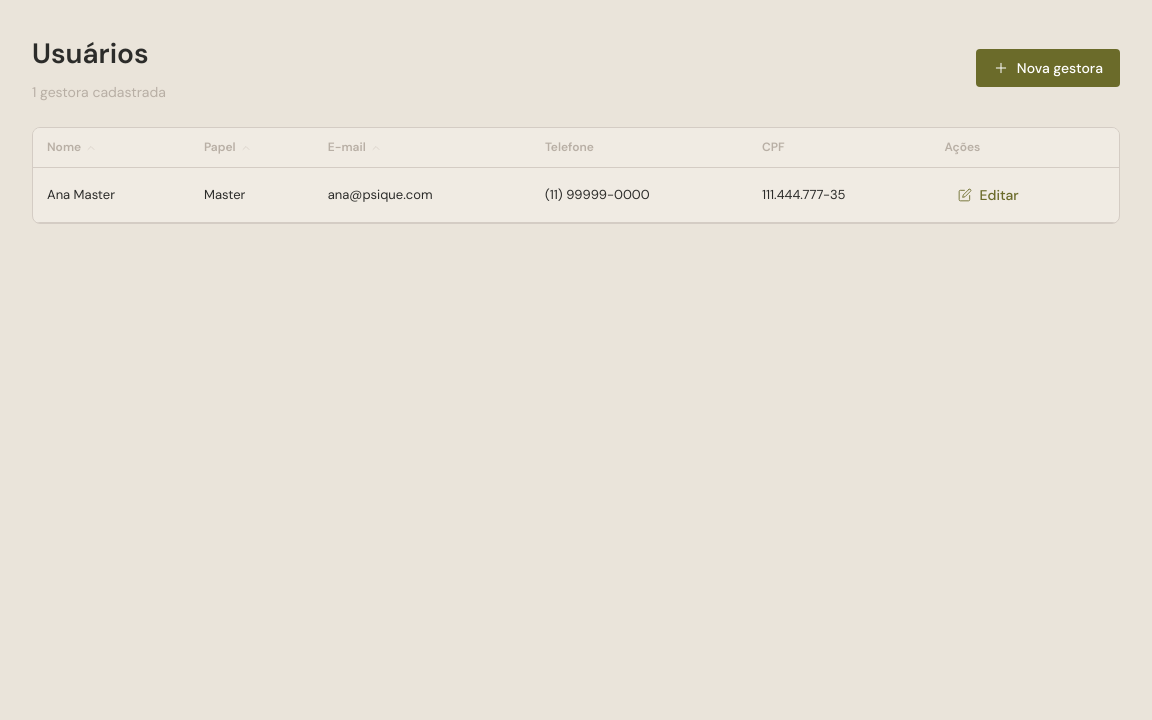
Scenario: Usuarios › caso de erro: falha ao editar exibe toast sem corromper a lista
The width and height of the screenshot is (1152, 720).
Click the button "Editar".
click(988, 195)  # box [944,178,1032,212]
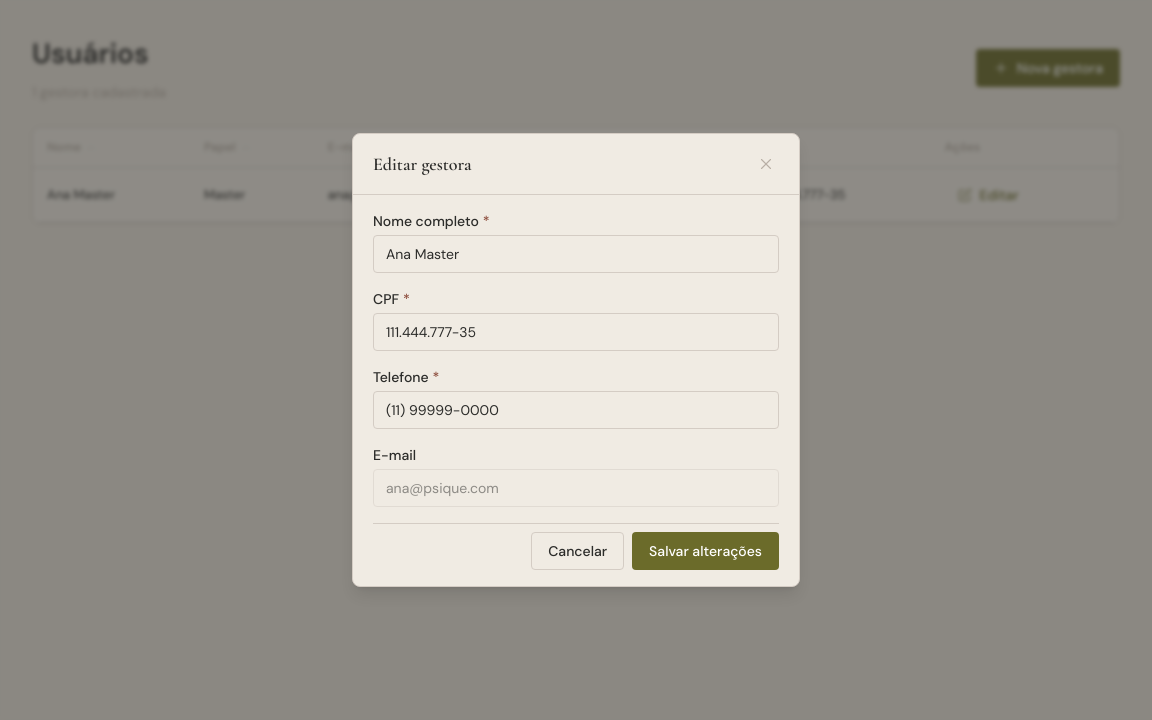
Click the button "Salvar alterações".
click(706, 551)  # box [632,532,779,570]
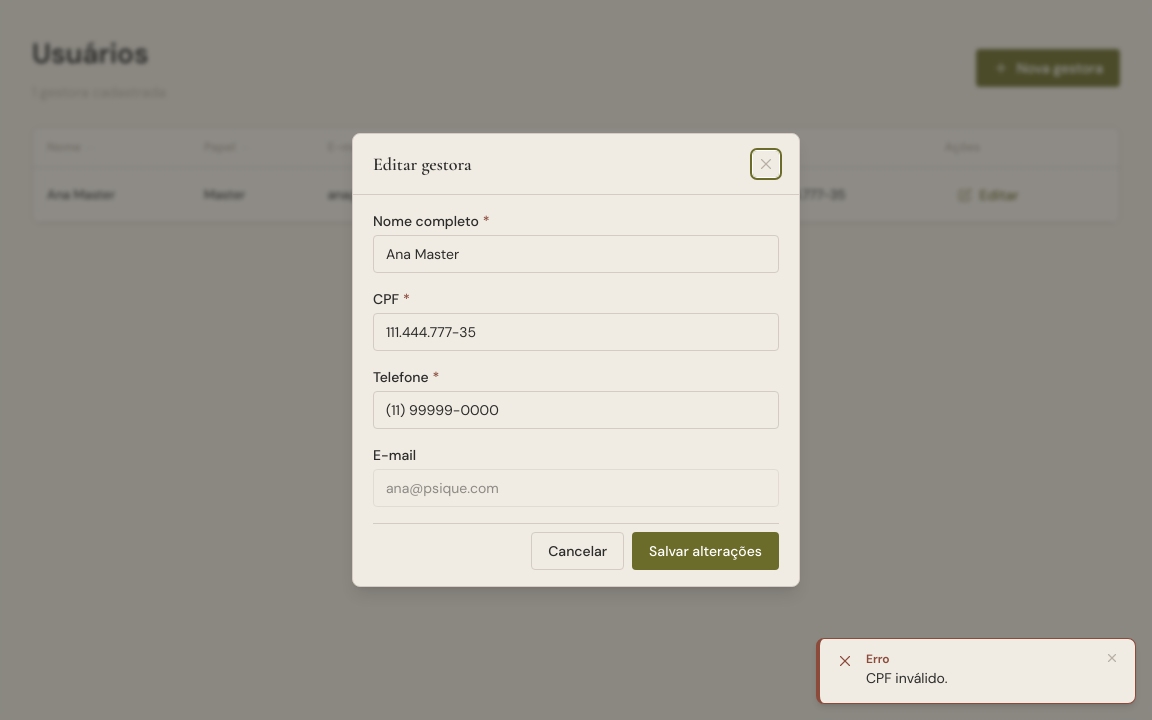
Expected: the text "111.444.777-35" is shown, [748,168,930,223]
Result: the text "CPF inválido." is shown at [866,669,948,687]
